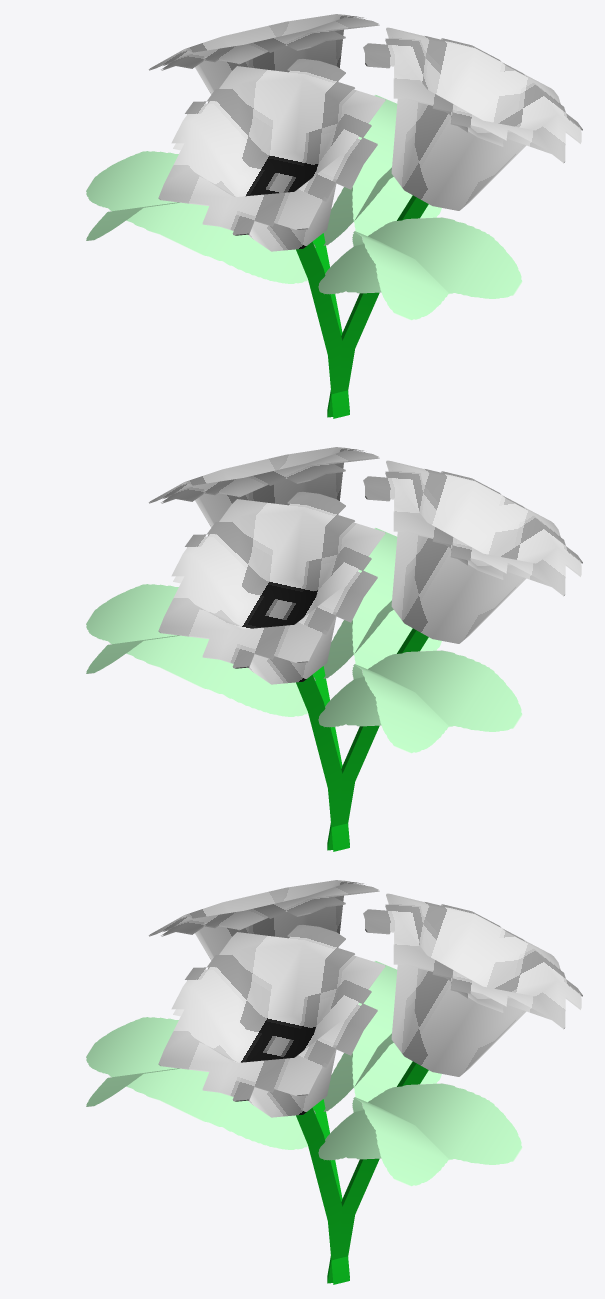
File: NewFlower.FBX
3 views of the same model, one above another, from view 1: azimuth 30°, elevation 25°; view 2: azimuth 150°, elevation 25°; view 3: azimuth 270°, elevation 25° (orthographic).
Visible parts, largest first — view 1: flower; view 2: flower; view 3: flower.
Boxes of the visible parts, bbox=[...] form: flower: bbox=[86, 14, 582, 418]; flower: bbox=[86, 447, 582, 851]; flower: bbox=[86, 880, 582, 1284].
Bounding box in the file's own units: 4.24 × 2.91 × 4.17.
